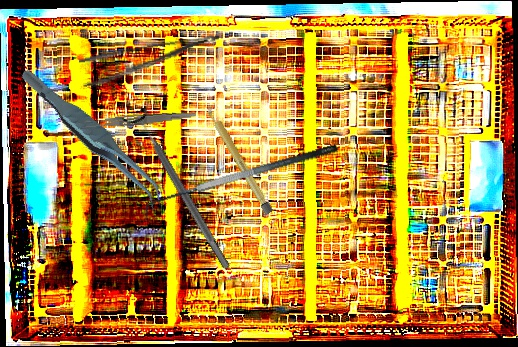Dressing Forceps: (78, 31, 224, 90), (80, 107, 197, 131)
Fixation Ring: (120, 103, 240, 277)
Scalpel Handle: (205, 105, 274, 216)
Spatula Surgical: (137, 141, 344, 222)
Tissue Forceps: (18, 44, 169, 231)
